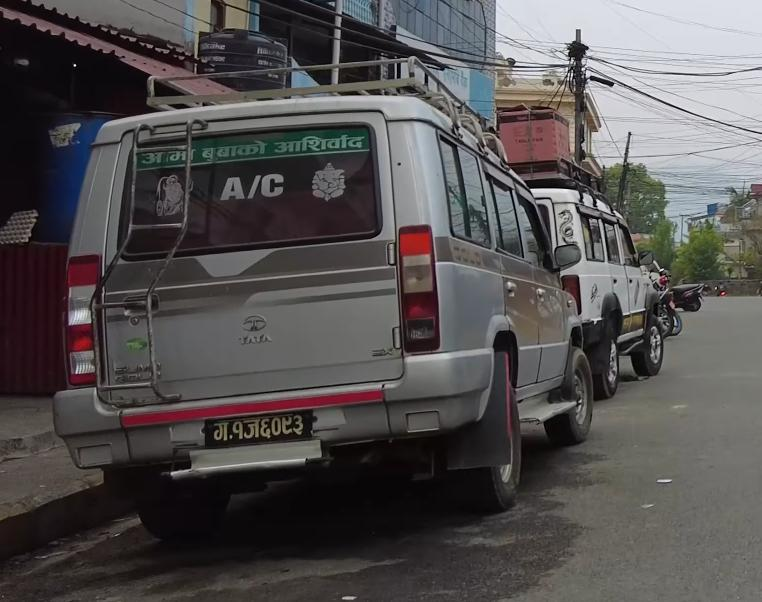SUV: (35, 66, 596, 525), (506, 149, 670, 395)
